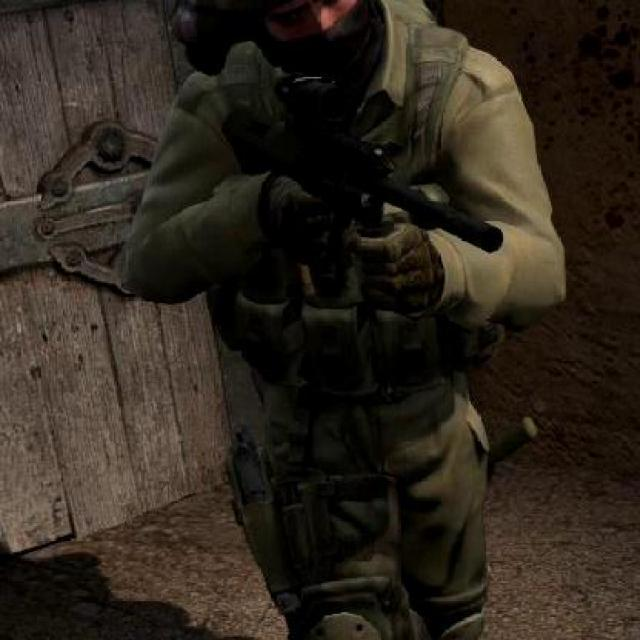CT-Body: (161, 0, 403, 58)
CT-Head: (87, 0, 589, 638)
